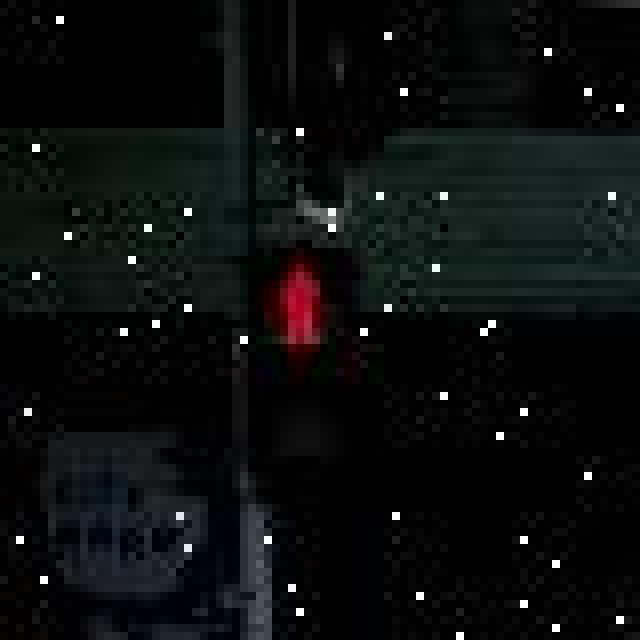redlight: (235, 245, 352, 492)
